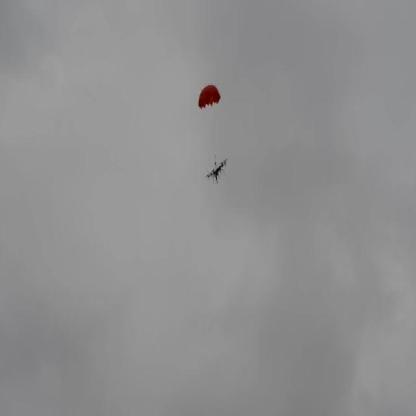drone: (200, 157, 231, 186)
